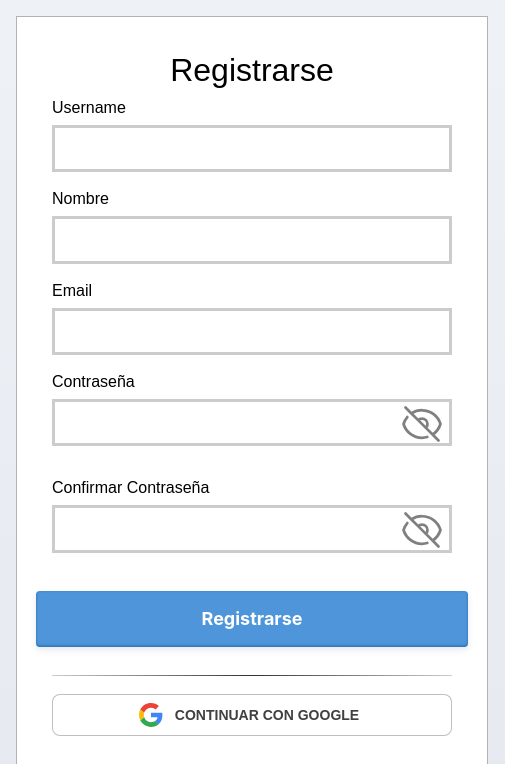
Scenario: Register component › muestra advertencia si los campos están vacíos
The width and height of the screenshot is (505, 764).
Click the button "Registrarse". click: (252, 619)
box: [36, 591, 468, 647]
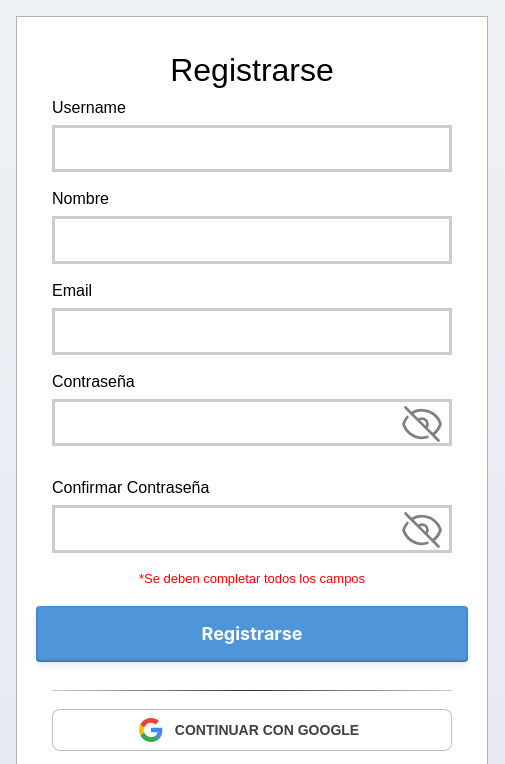
Expected: the text "*Se deben completar todos los campos" is shown, [139, 571, 365, 586]
